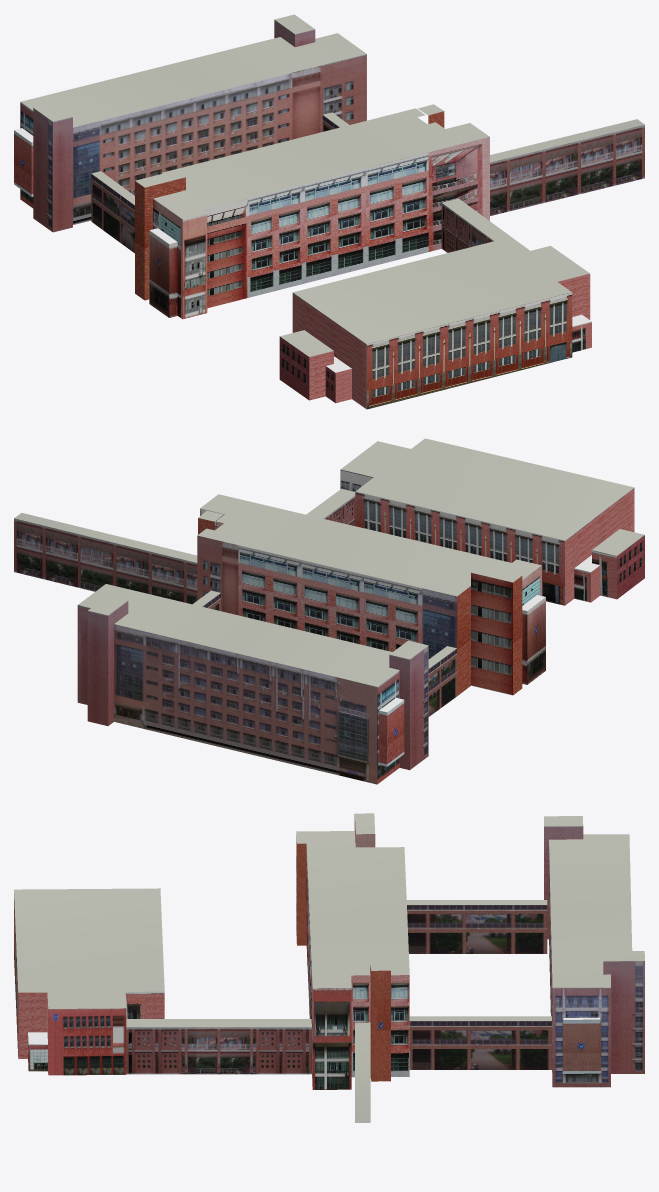
File: jxl_(n,m,p).gltf
3 views of the same model, one above another, from view 1: azimuth 30°, elevation 25°; view 2: azimuth 150°, elevation 25°; view 3: azimuth 270°, elevation 25° (orthographic).
Visible parts, largest first — view 1: Mesh01#3, skp7743, Mesh02#3; view 2: Mesh01#3, Mesh02#3, skp7743; view 3: skp7743, Mesh01#3, Mesh02#3.
Part boxes in pixels (x1,y1,x2,y2): Mesh01#3: (91,104,644,319); skp7743: (279,198,591,409); Mesh02#3: (14,14,366,232); Mesh01#3: (14,494,545,716); Mesh02#3: (77,584,428,784); skp7743: (306,438,644,605); skp7743: (14,888,601,1075); Mesh01#3: (296,813,547,1122); Mesh02#3: (409,816,644,1087).
Size of the model in its own units: 0.1206 by 0.026 by 0.1292.
Materials: 10 (9 with a texture image).
